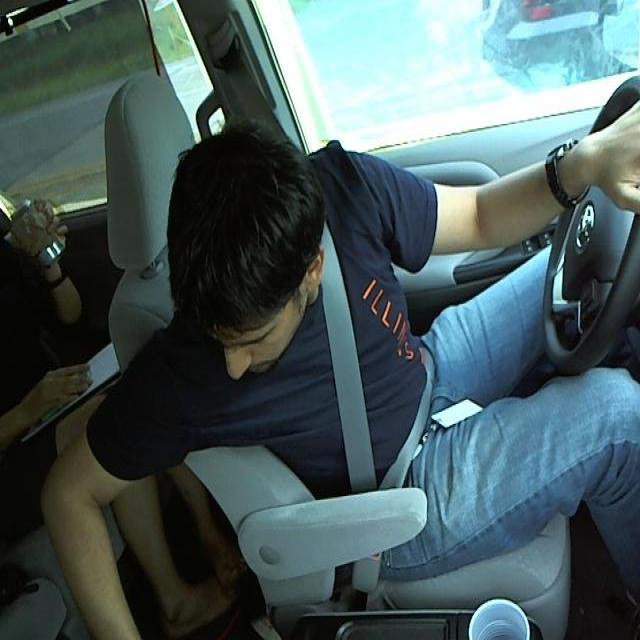seatbelt: (318, 265, 435, 484)
